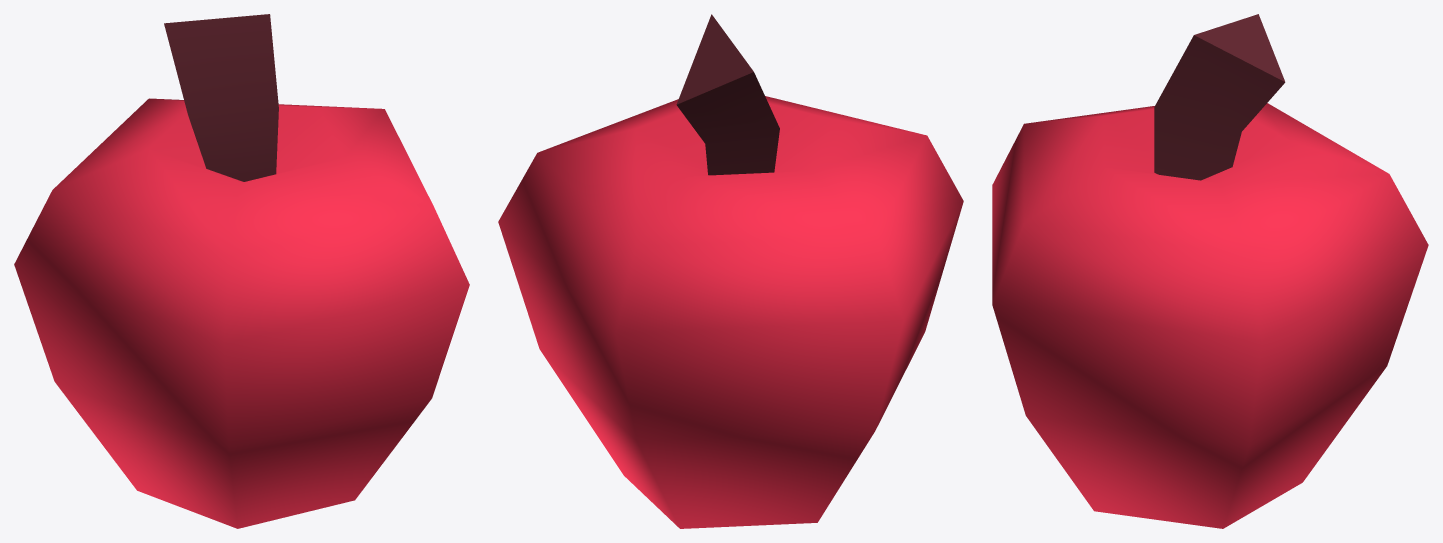
File: Apple.fbx
3 renders of one model, left to right at view 1: azimuth 30°, elevation 25°; view 2: azimuth 150°, elevation 25°; view 3: azimuth 270°, elevation 25°, orthographic. The views are drawn at different scales.
Parts seen in each view (by area): view 1: Apple; view 2: Apple; view 3: Apple.
Part boxes in pixels (x1,y1,x2,y2): Apple: [14, 14, 469, 528]; Apple: [498, 14, 963, 528]; Apple: [992, 14, 1428, 528].
Bounding box in the file's own units: 5.31 × 5.86 × 5.05.
